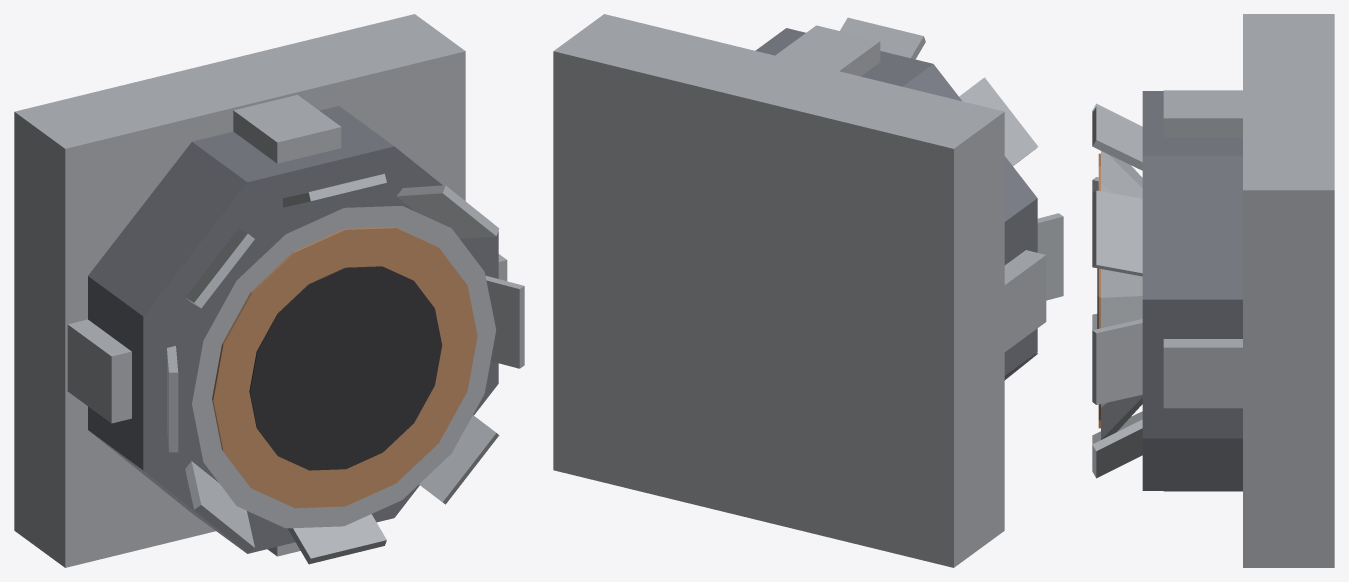
Rendered from shell_capital.glb.
3 views of the same model, side by side, from view 1: azimuth 30°, elevation 25°; view 2: azimuth 150°, elevation 25°; view 3: azimuth 270°, elevation 25° (orthographic). The views are drawn at different scales.
Size of the model in its own units: 5 by 5 by 2.9.
